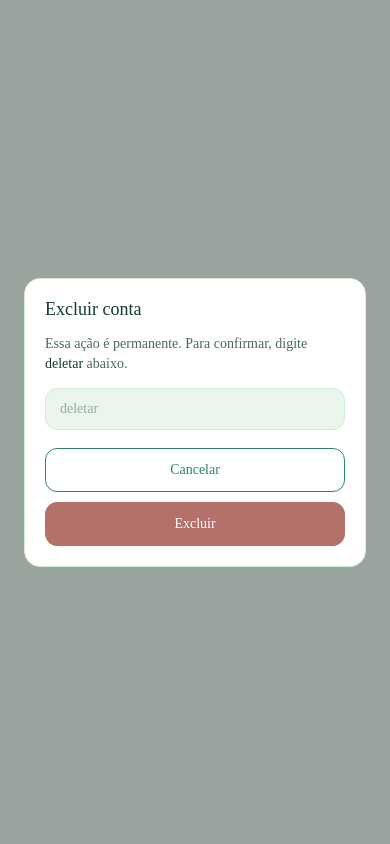
Test: DeleteAccountModal › só libera a exclusão depois de digitar "deletar" (sem diferenciar maiúsculas)
The image size is (390, 844).
Later steps or results of the test are not shown.
Expected: the text "Excluir conta" is shown, x1=45 y1=298 x2=142 y2=318
Expected: the button "Excluir" is disabled, x1=45 y1=502 x2=345 y2=546
Type "delet" into the field with placeholder "deletar" at x=195, y=408, box x1=45 y1=388 x2=345 y2=430
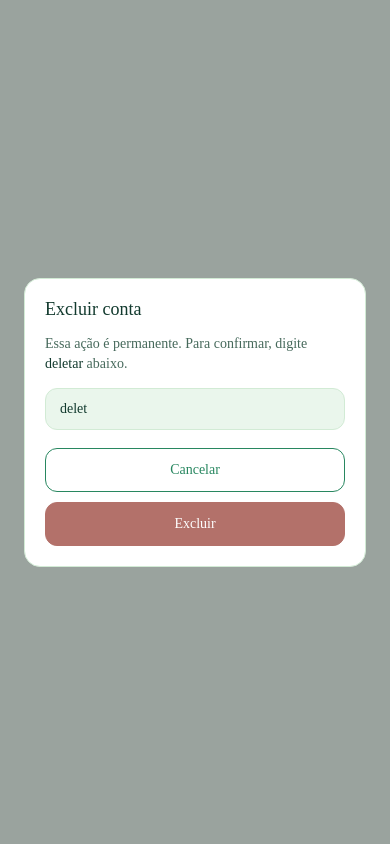
Expected: the button "Excluir" is disabled, x1=45 y1=502 x2=345 y2=546
Replace the text in the field with placeholder "deletar" with "  DELETAR " at x=195, y=408, box x1=45 y1=388 x2=345 y2=430
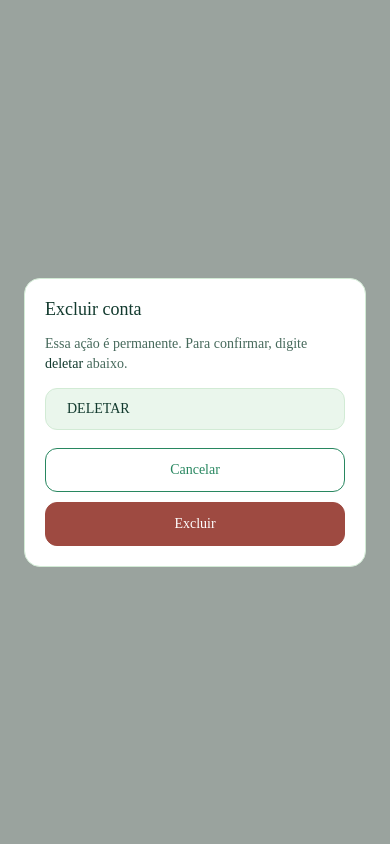
Expected: the button "Excluir" is enabled, x1=45 y1=502 x2=345 y2=546
